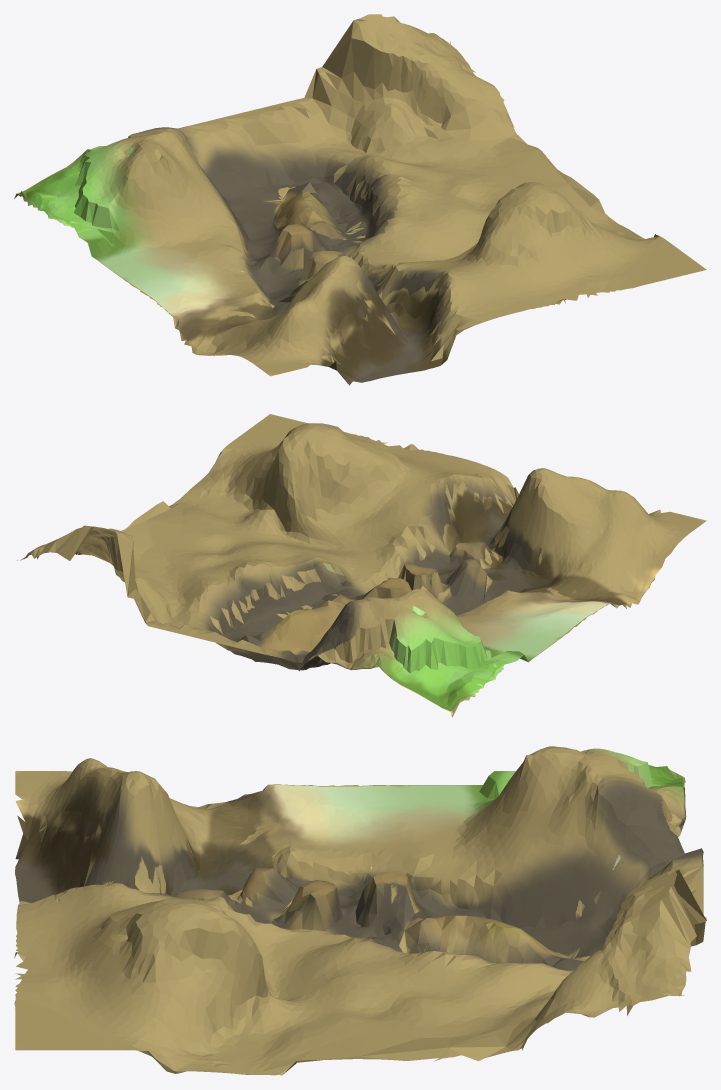
The model's file is Terrain3.fbx.
The picture shows the model from 3 angles, top to bottom: view 1: azimuth 30°, elevation 25°; view 2: azimuth 150°, elevation 25°; view 3: azimuth 270°, elevation 25°; orthographic projection. The views are drawn at different scales.
Parts seen in each view (by area): view 1: Terrain4_10000; view 2: Terrain4_10000; view 3: Terrain4_10000.
Boxes of the visible parts, left/top/right/bottom form: Terrain4_10000: left=14, top=14, right=706, bottom=385; Terrain4_10000: left=16, top=414, right=706, bottom=717; Terrain4_10000: left=14, top=746, right=706, bottom=1075.
Size of the model in its own units: 20403 by 5824 by 20988.
